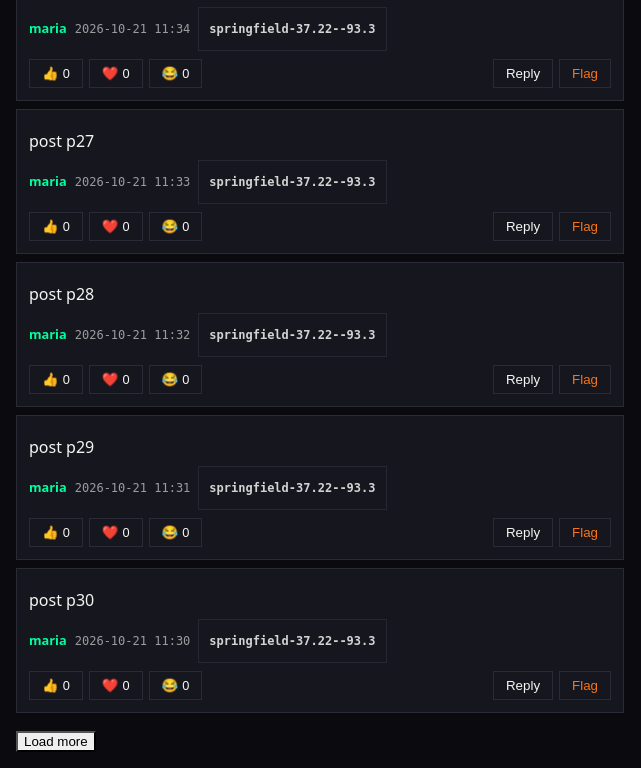
W4-C2 infinite scroll › page 2 appends on sentinel intersect — keys stable, no duplicate rows
(page scrolled)
What coordinates should you click on to do the following:
click the button with test id "feed-load-more"
I would click on:
 (56, 742)
Its box is [16,731,96,752].
(page scrolled)
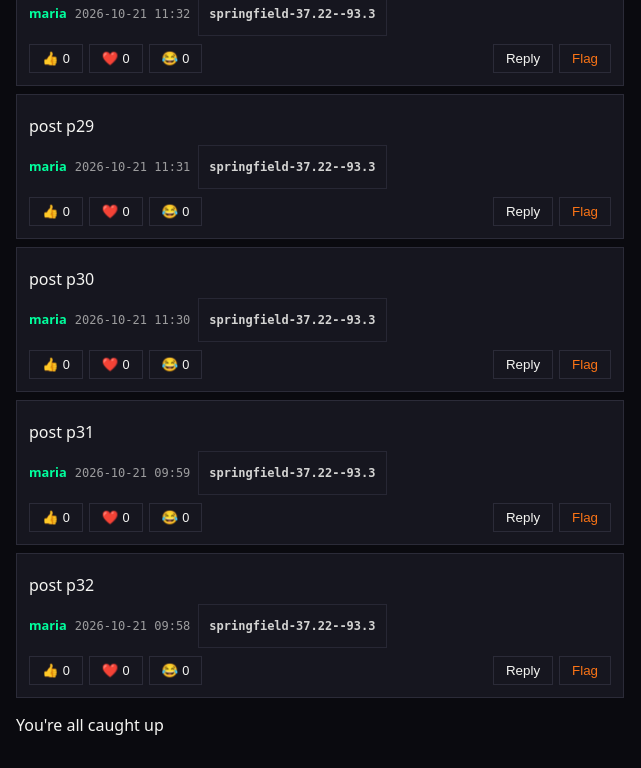
Result: the element with test id "post-p31" is shown at [16,400,624,545]
